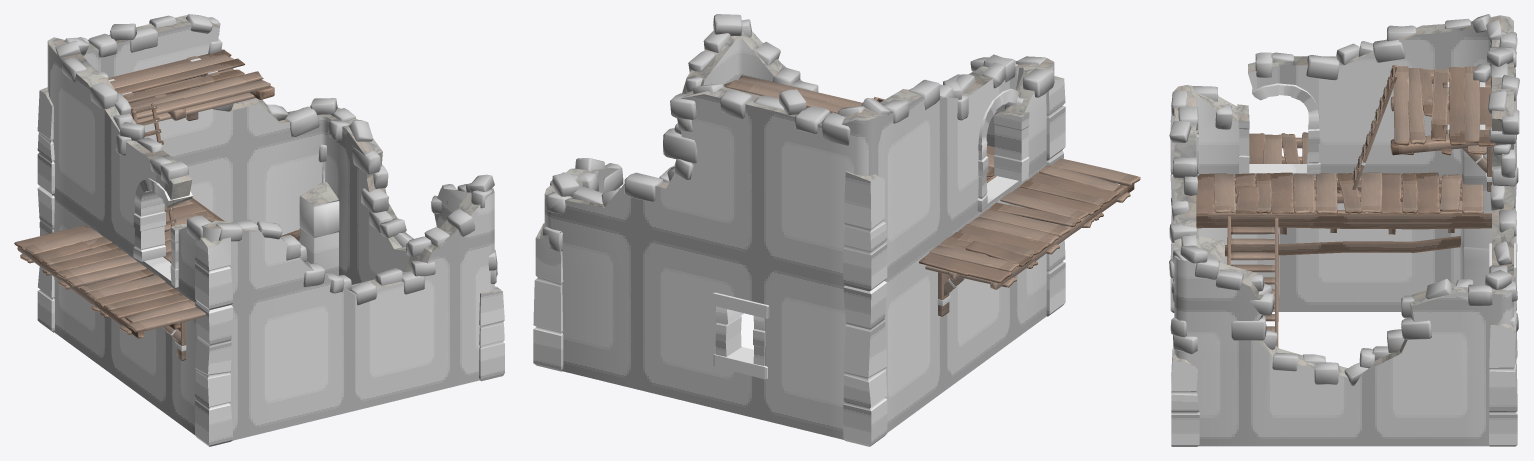
Rendered from SM_TowerE_Ruined_Top.fbx.
3 views of the same model, side by side, from view 1: azimuth 30°, elevation 25°; view 2: azimuth 150°, elevation 25°; view 3: azimuth 270°, elevation 25° (orthographic). The views are drawn at different scales.
Parts seen in each view (by area): view 1: SM_TowerE_Ruined_Top_LOD0; view 2: SM_TowerE_Ruined_Top_LOD0; view 3: SM_TowerE_Ruined_Top_LOD0.
Boxes of the visible parts, bbox=[...] form: SM_TowerE_Ruined_Top_LOD0: bbox=[14, 14, 504, 446]; SM_TowerE_Ruined_Top_LOD0: bbox=[533, 14, 1140, 446]; SM_TowerE_Ruined_Top_LOD0: bbox=[1169, 14, 1519, 446].
Size of the model in its own units: 1269 by 1033 by 963.
